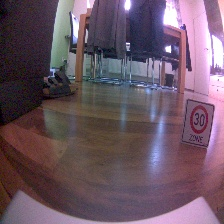dreisiger_zone: (180, 99, 215, 151)
